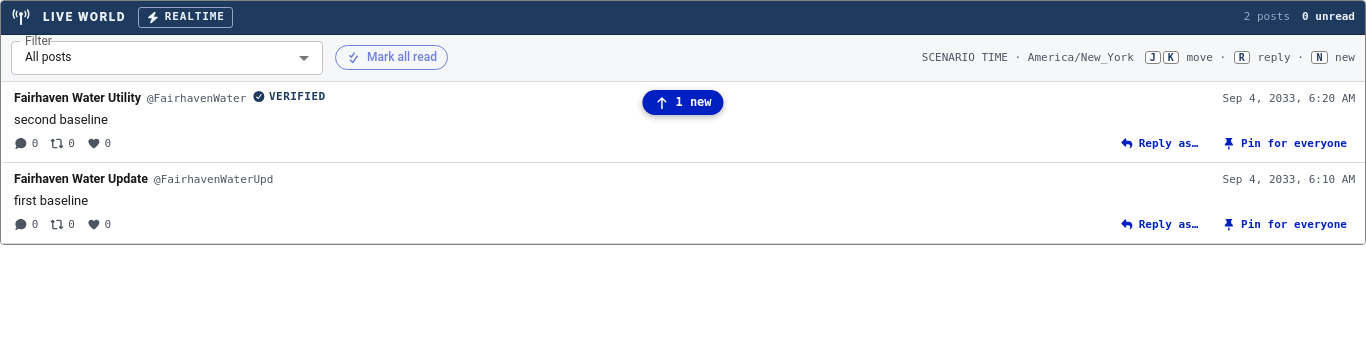
Test: AC — Pin for everyone / Unpin › a pin change reaches a post held behind "N new" too
(page scrolled)
Click the button with test id "live-world-new". click: (683, 102)
box: [642,90,724,115]
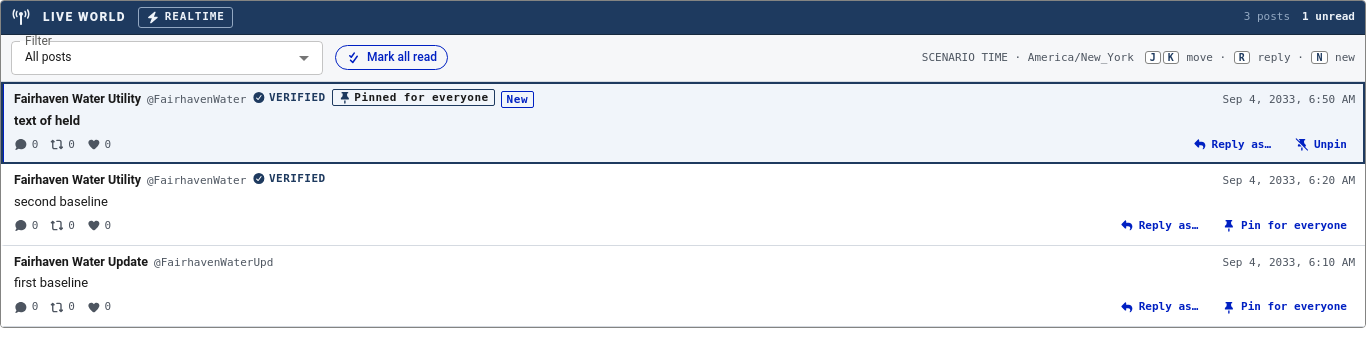
Result: the element with test id "live-world-pinned" is shown at [332,89,495,106]
